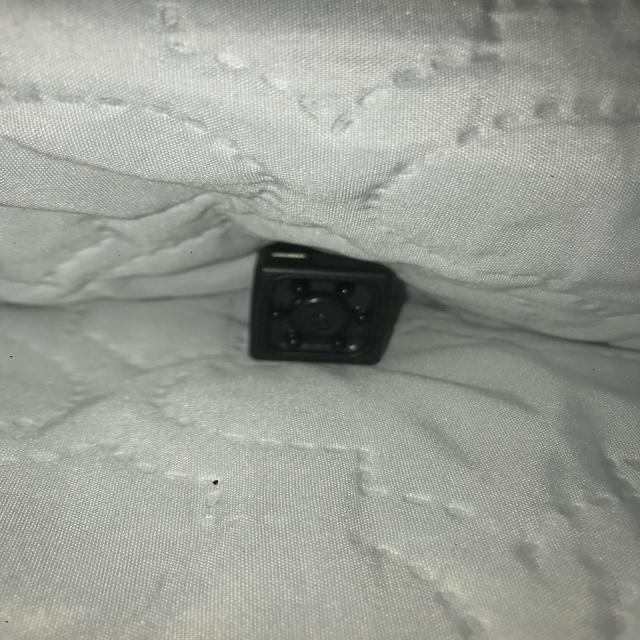hidden camera: (297, 300, 344, 337)
